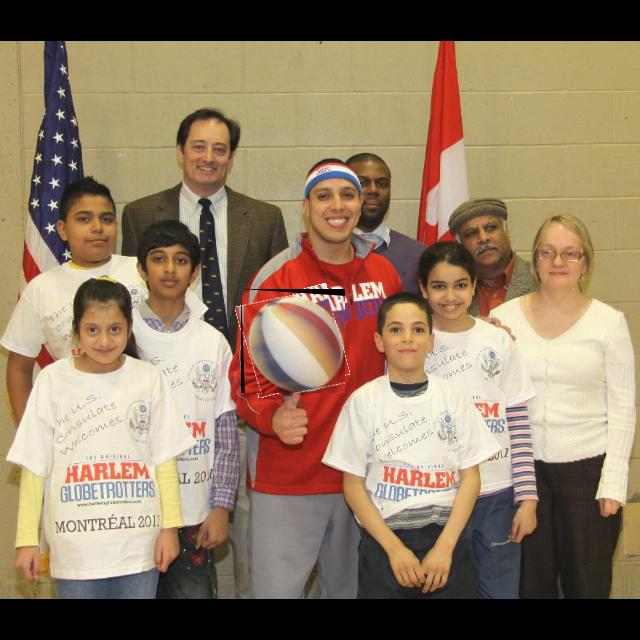Football: (241, 289, 345, 393)
